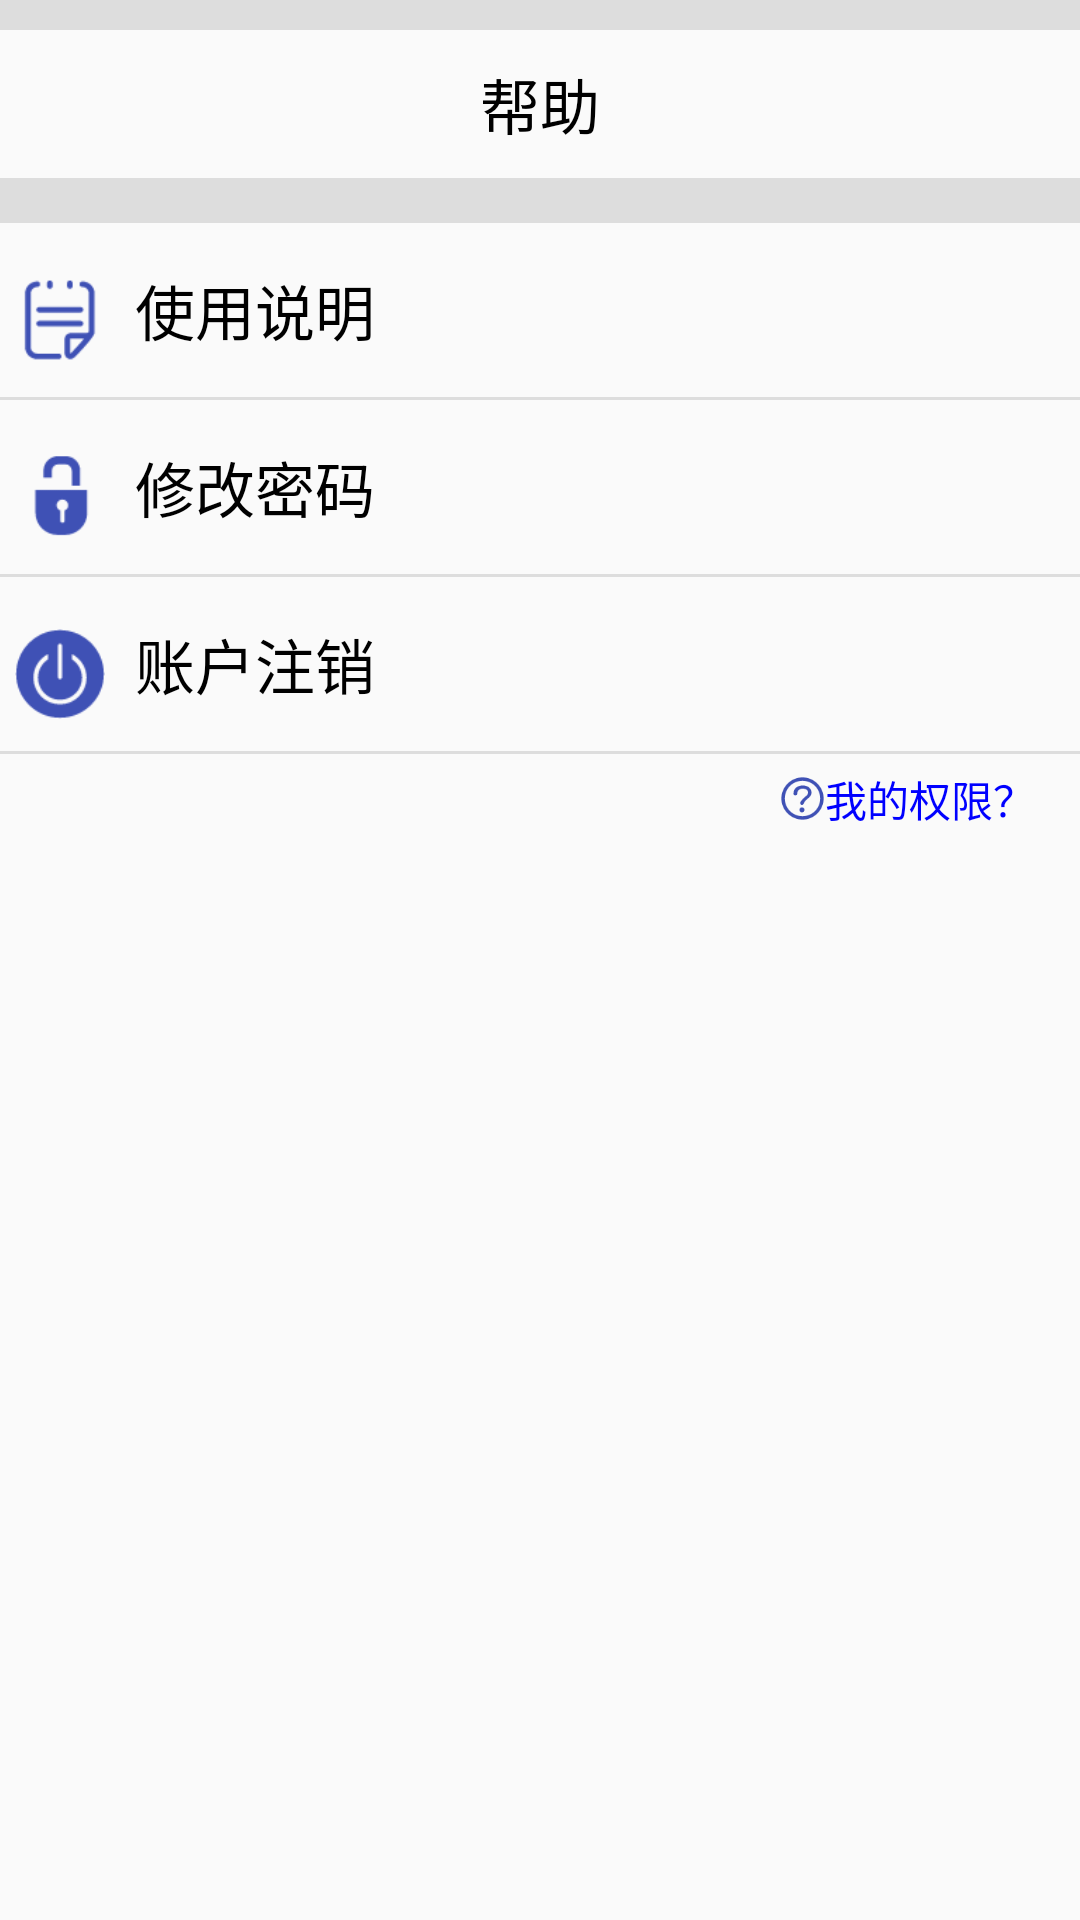

Point at icon controls on the screen. Image size 1080×1920, points as [x,y].
change password: [61,495]
illustrate: [59,320]
log off: [60,673]
